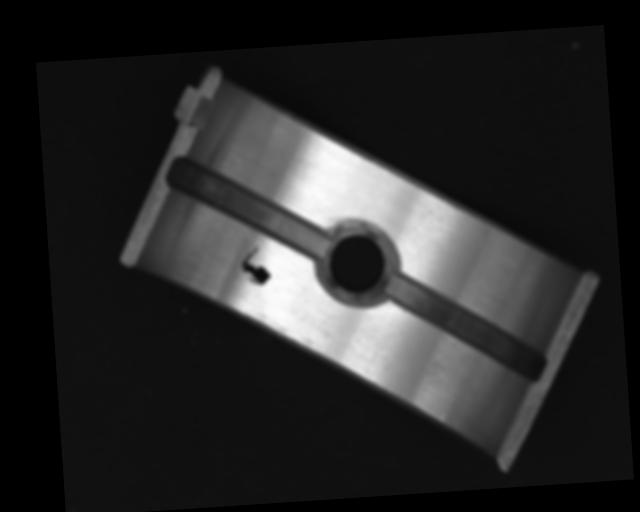blot: (239, 244, 272, 286)
gap: (383, 264, 547, 388), (167, 146, 328, 267)
hole: (319, 223, 391, 301)
